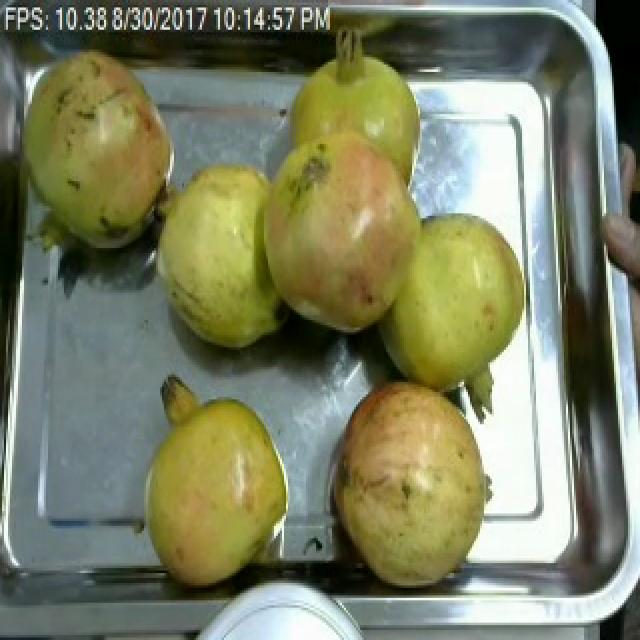fruit: (320, 362, 504, 598), (6, 35, 186, 260), (364, 188, 536, 416), (130, 370, 298, 595), (598, 199, 640, 295)
